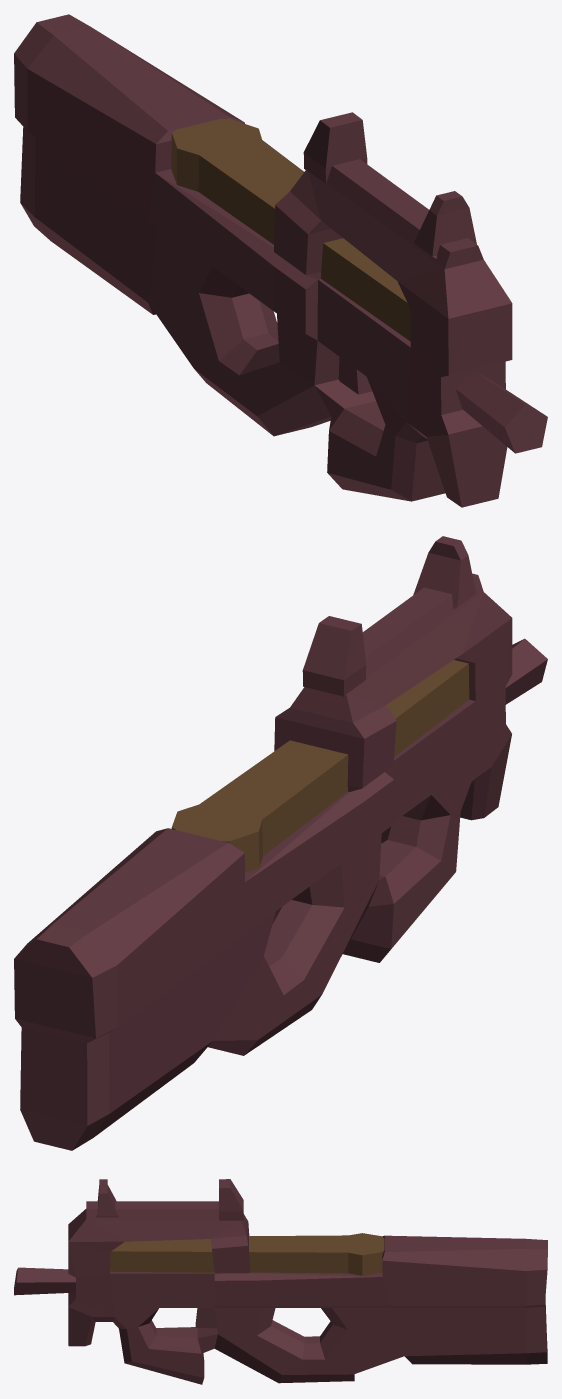
The model's file is SM_SMG_Stealth.fbx.
The picture shows the model from 3 angles, top to bottom: view 1: azimuth 30°, elevation 25°; view 2: azimuth 150°, elevation 25°; view 3: azimuth 270°, elevation 25°; orthographic projection. The views are drawn at different scales.
Parts seen in each view (by area): view 1: SM_SMG_Stealth; view 2: SM_SMG_Stealth; view 3: SM_SMG_Stealth.
Part boxes in pixels (<box>): SM_SMG_Stealth: <box>14,14,547,507</box>; SM_SMG_Stealth: <box>14,536,547,1150</box>; SM_SMG_Stealth: <box>14,1179,547,1384</box>.
Size of the model in its own units: 0.0557 by 0.2089 by 0.5104.
